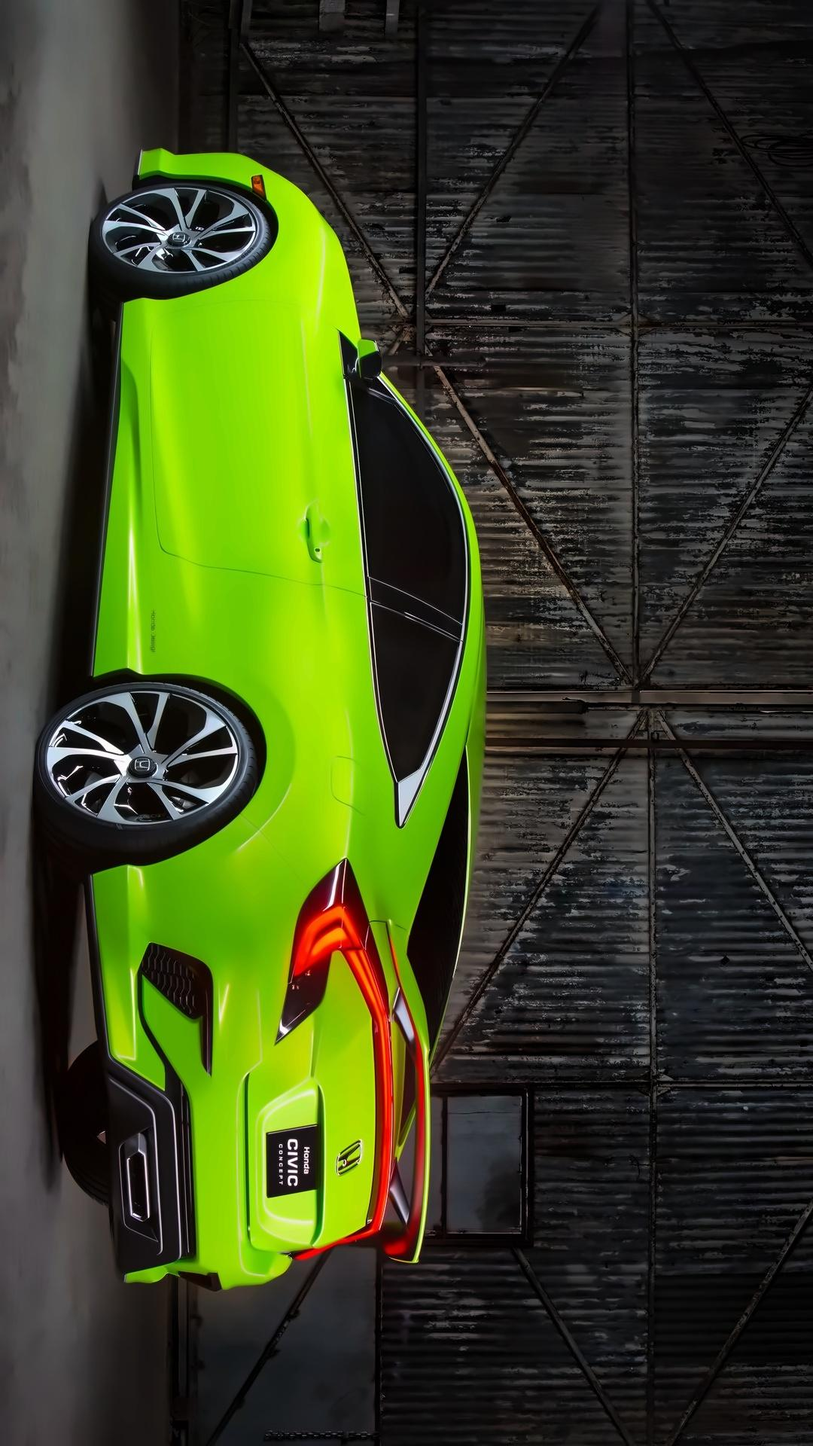Car boot: (64, 842, 267, 1300), (239, 915, 442, 1286)
Fender - -F-L-: (132, 193, 349, 305)
Fender - -R-L-: (98, 660, 386, 884)
Front bumper: (115, 134, 293, 190)
Passenger-s door - -F-L-: (132, 306, 477, 629)
Rear light - -L-: (269, 849, 392, 1054)
Rear light - -R-: (273, 1215, 397, 1279)
Side bumper - -L-: (77, 292, 152, 692)
Side mirror - -L-: (341, 322, 392, 388)
